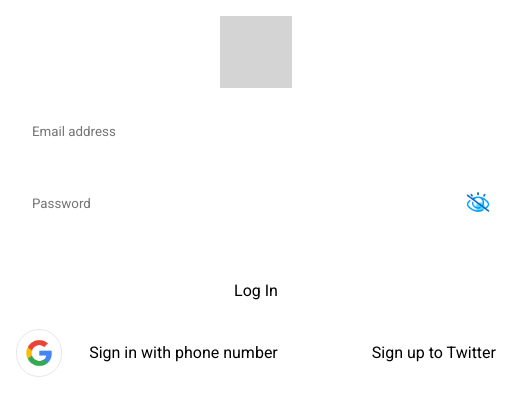
Test case: SignIn Component › switches between email and phone login
The width and height of the screenshot is (513, 394).
Click the button "Sign in with phone number". click: [184, 353]
box: [78,329,289,377]
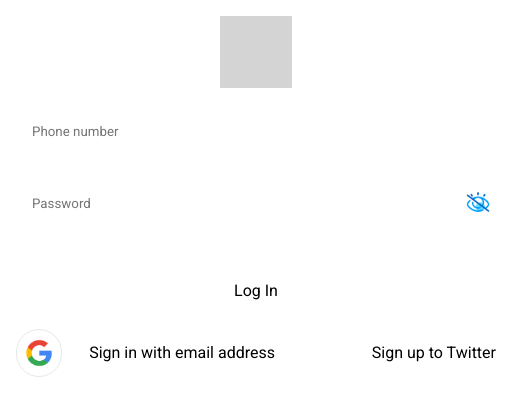
expect the field with placeholder "Phone number" is shown: met, box [16,108,494,155]
Click the button "Sign in with email address". click: [182, 353]
box: [78,329,286,377]
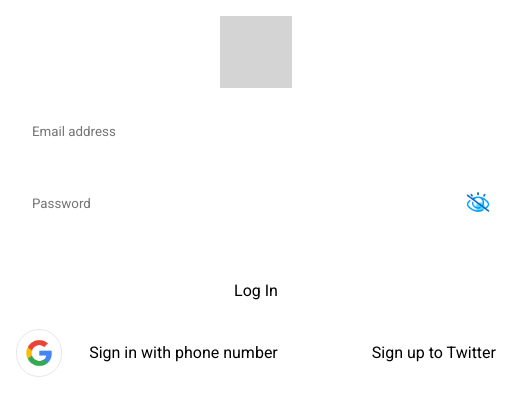
expect the field with placeholder "Email address" is shown: met, box [16,108,494,155]
